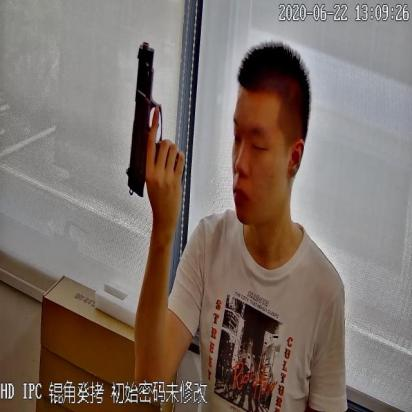Gun: (121, 31, 191, 200)
